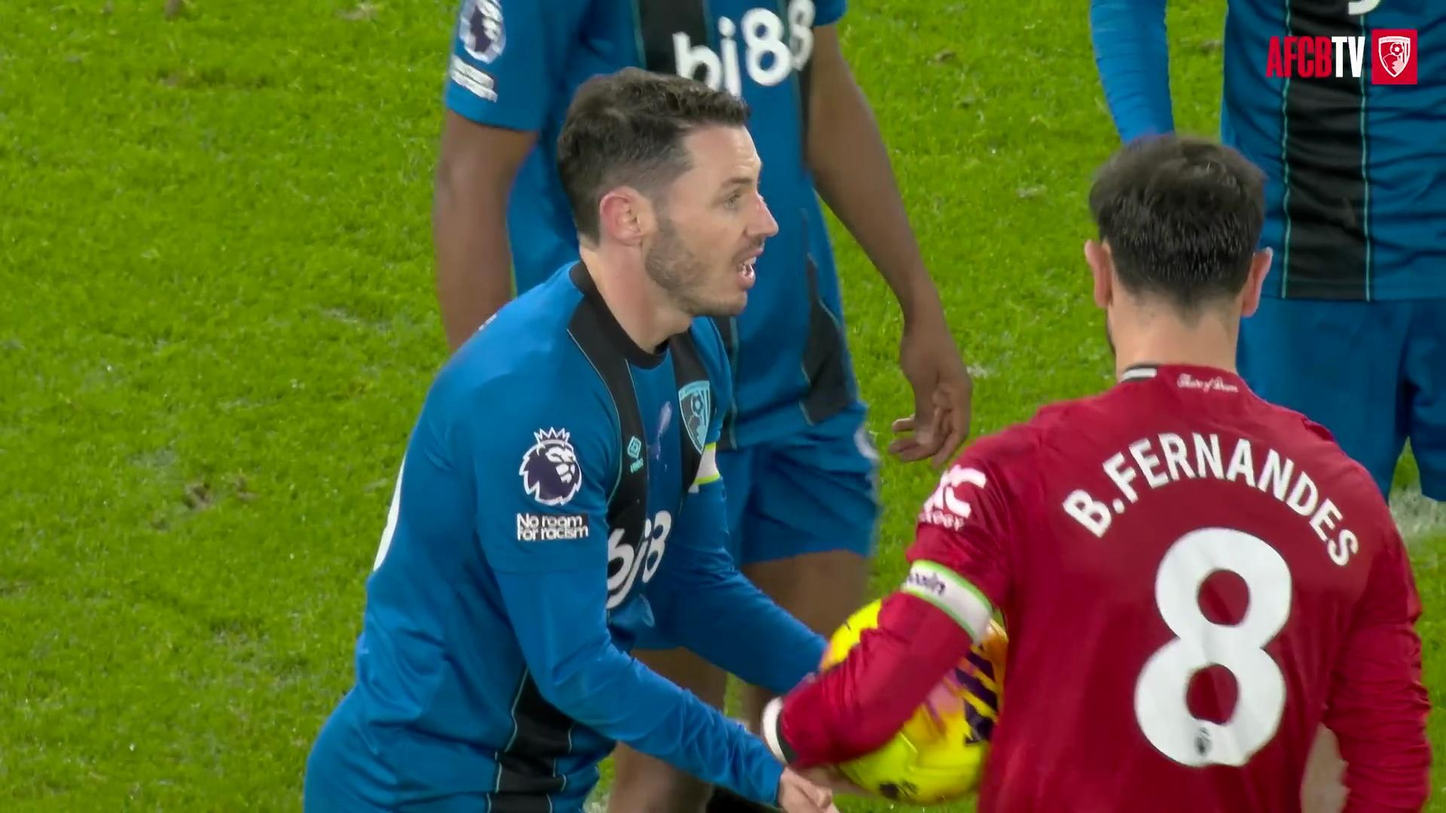football: (837, 622, 1007, 805)
player: (764, 136, 1430, 812), (305, 71, 831, 812), (433, 0, 970, 633), (1221, 0, 1445, 500)
